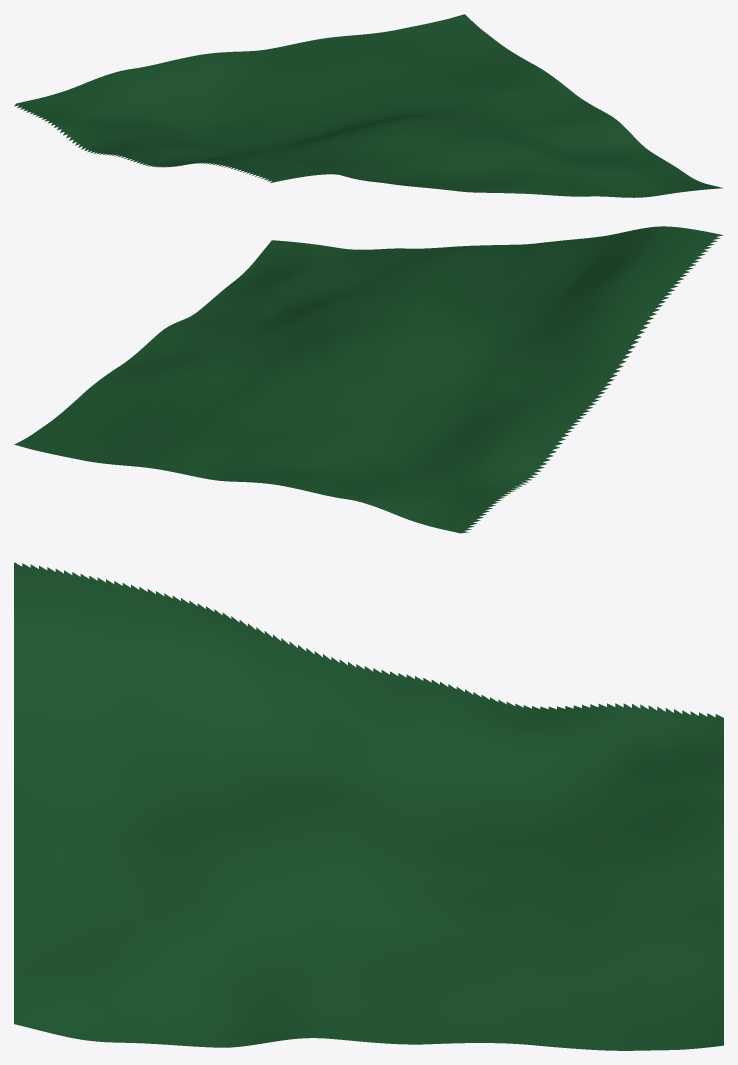
The model's file is payo_land_xm2_ym3.glb.
3 views of the same model, one above another, from view 1: azimuth 30°, elevation 25°; view 2: azimuth 150°, elevation 25°; view 3: azimuth 270°, elevation 25° (orthographic). The views are drawn at different scales.
Parts seen in each view (by area): view 1: payo_land_xm2_ym3; view 2: payo_land_xm2_ym3; view 3: payo_land_xm2_ym3.
Boxes of the visible parts, x1,y1,x2,y2 form: payo_land_xm2_ym3: (14,14,723,197); payo_land_xm2_ym3: (14,226,723,533); payo_land_xm2_ym3: (14,562,723,1050).
Size of the model in its own units: 258 by 73.39 by 255.
